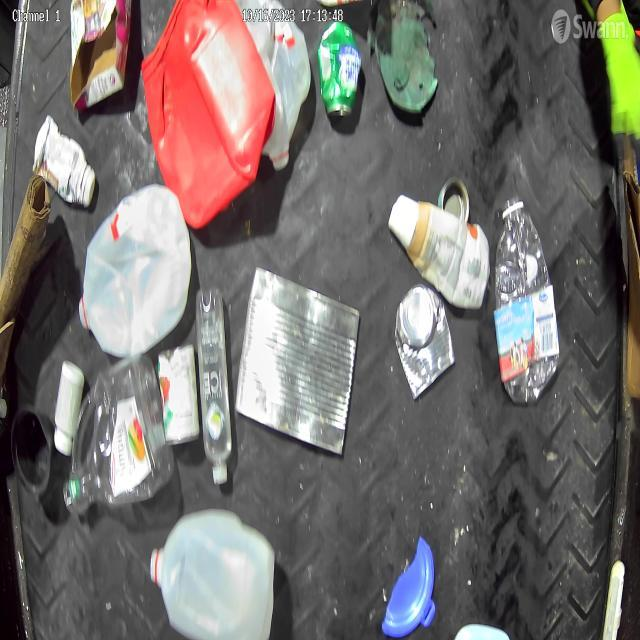can: (390, 290, 456, 400), (158, 342, 202, 460), (314, 22, 363, 122)
milk_jug: (76, 184, 192, 356), (143, 514, 276, 640), (244, 0, 315, 184)
plastic_bottle: (496, 191, 558, 410), (194, 286, 242, 482)
